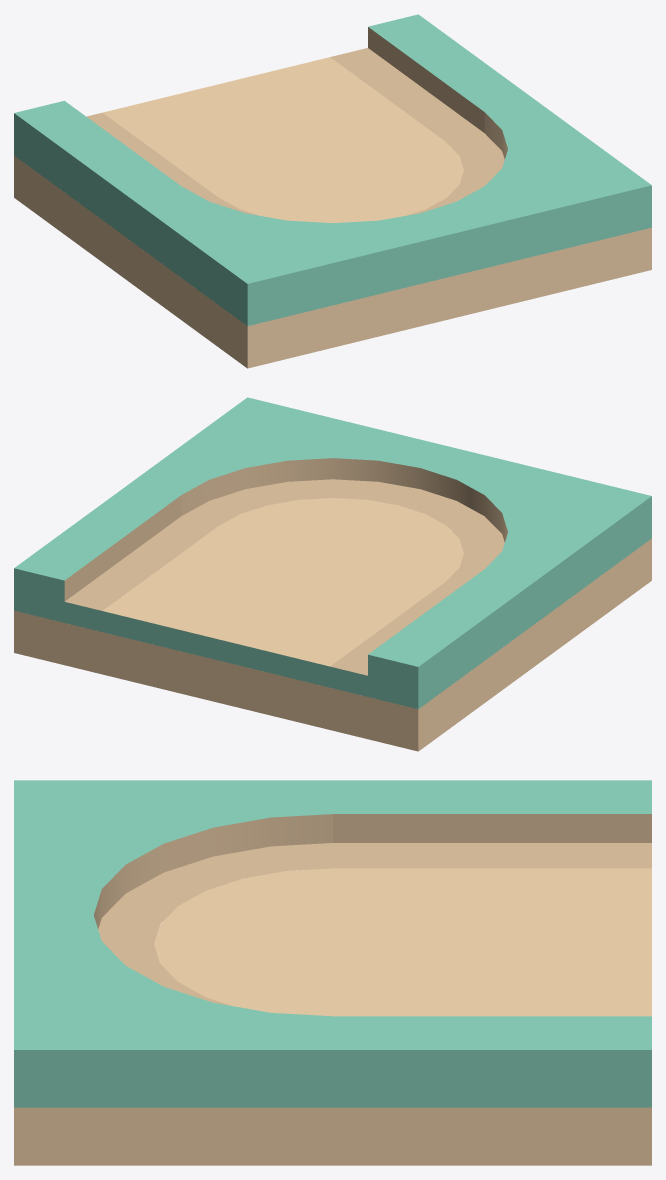
File: tile_endRound.glb
The picture shows the model from 3 angles, top to bottom: view 1: azimuth 30°, elevation 25°; view 2: azimuth 150°, elevation 25°; view 3: azimuth 270°, elevation 25°; orthographic projection. The views are drawn at different scales.
Parts seen in each view (by area): view 1: tile_endRound; view 2: tile_endRound; view 3: tile_endRound.
Part boxes in pixels (<box>): tile_endRound: <box>14,14,651,368</box>; tile_endRound: <box>14,397,651,751</box>; tile_endRound: <box>14,780,651,1165</box>.
Bounding box in the file's own units: 1 × 0.2 × 1.
